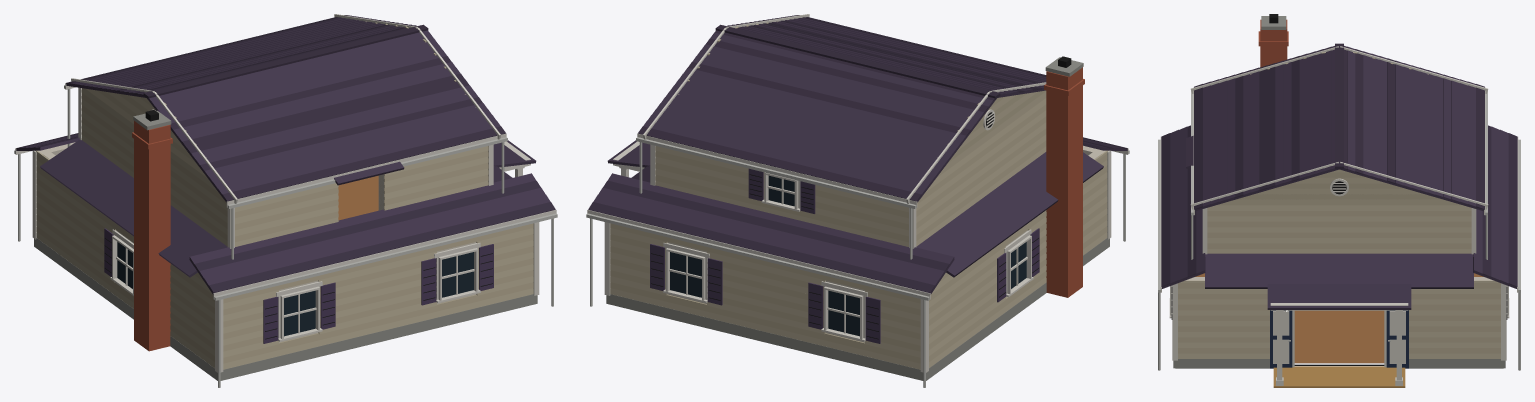
Rendered from house-violet-attic.glb.
The picture shows the model from 3 angles, left to right: view 1: azimuth 30°, elevation 25°; view 2: azimuth 150°, elevation 25°; view 3: azimuth 270°, elevation 25°; orthographic projection. The views are drawn at different scales.
Parts seen in each view (by area): view 1: house-violet-attic; view 2: house-violet-attic; view 3: house-violet-attic.
Part boxes in pixels (<box>): house-violet-attic: <box>14,14,557,387</box>; house-violet-attic: <box>586,14,1129,387</box>; house-violet-attic: <box>1158,14,1520,387</box>.
Size of the model in its own units: 13.67 by 7.67 by 12.14.
